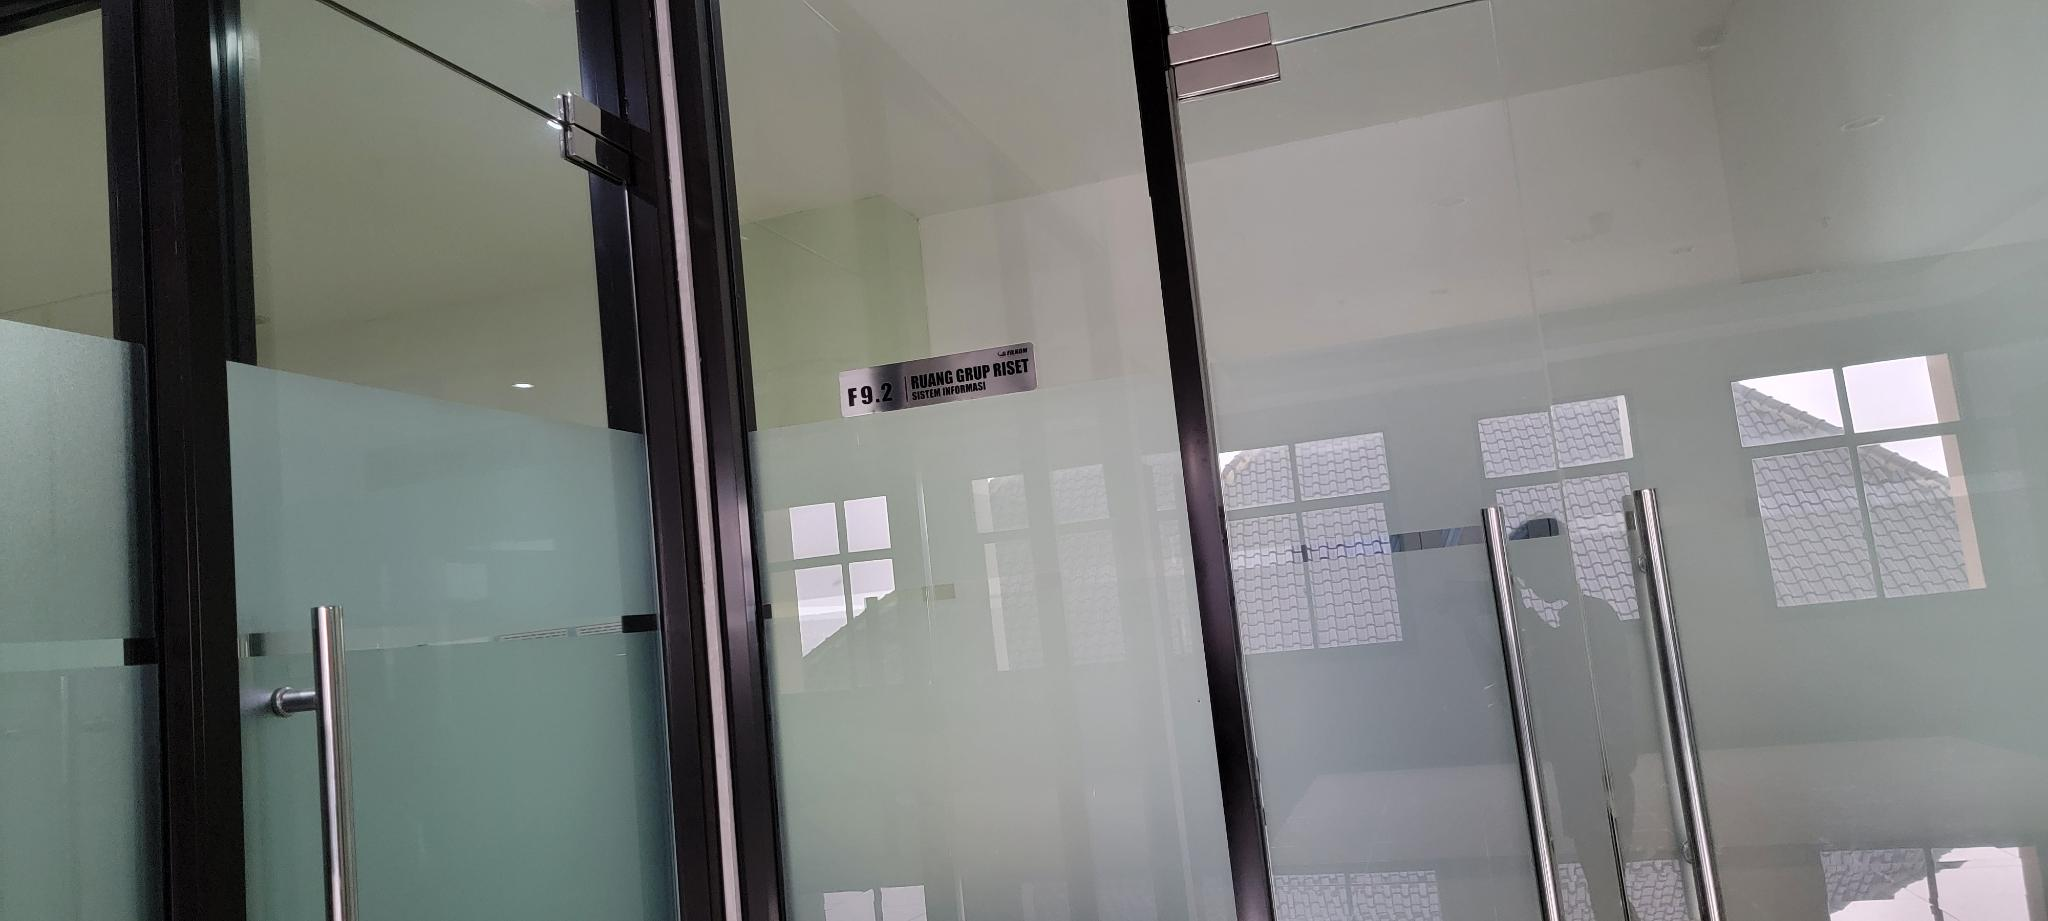plate: (840, 345, 1037, 418)
